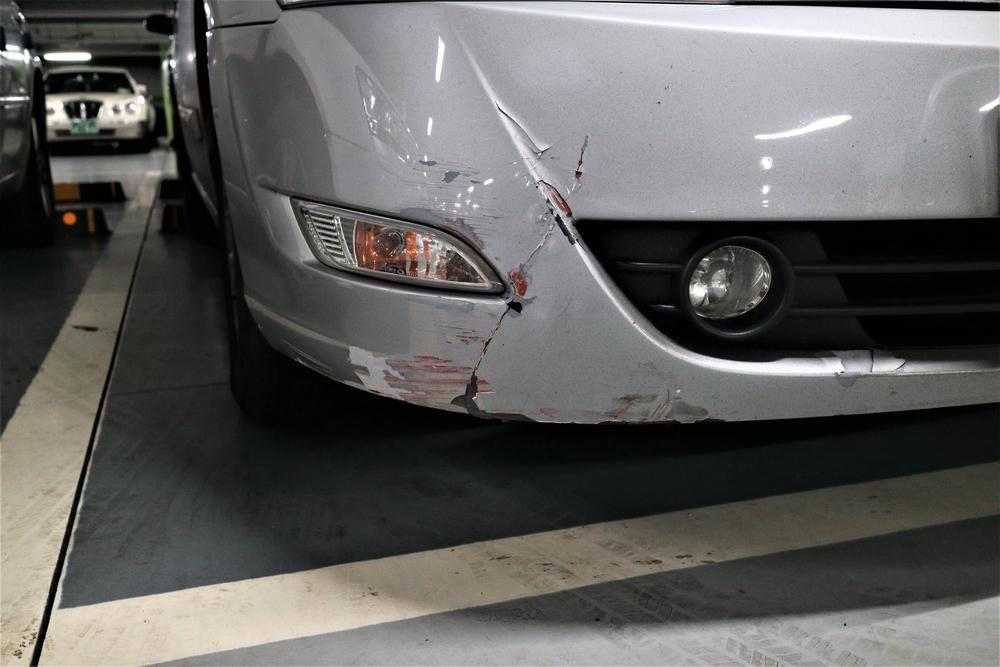crack: (464, 209, 559, 422)
scratch: (289, 323, 485, 416), (397, 150, 504, 250), (599, 356, 716, 423)
